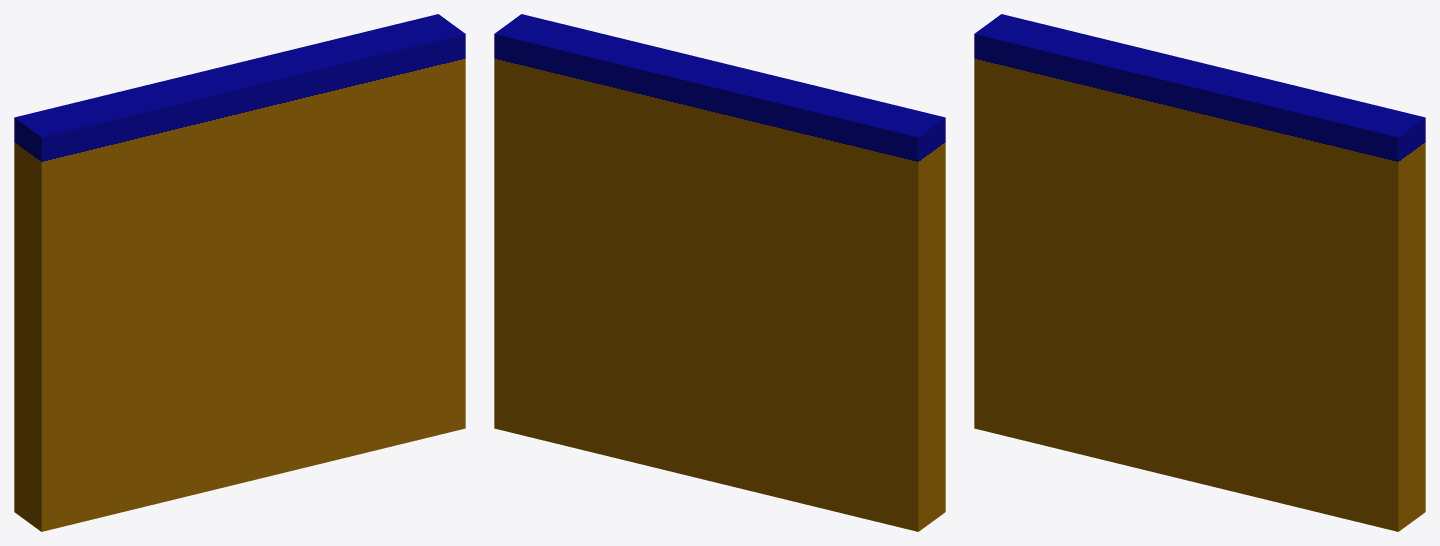
The model's file is river_v.gltf.
3 views of the same model, side by side, from view 1: azimuth 30°, elevation 25°; view 2: azimuth 150°, elevation 25°; view 3: azimuth 330°, elevation 25° (orthographic).
Visible parts, largest first — view 1: Content-Mesh; view 2: Content-Mesh; view 3: Content-Mesh.
Boxes of the visible parts, box(x1,y1,x2,y2) form: Content-Mesh: box(14, 14, 465, 531); Content-Mesh: box(494, 14, 945, 531); Content-Mesh: box(974, 14, 1425, 531).
Size of the model in its own units: 18 by 16 by 2.
Materials: 1 (1 with a texture image).
